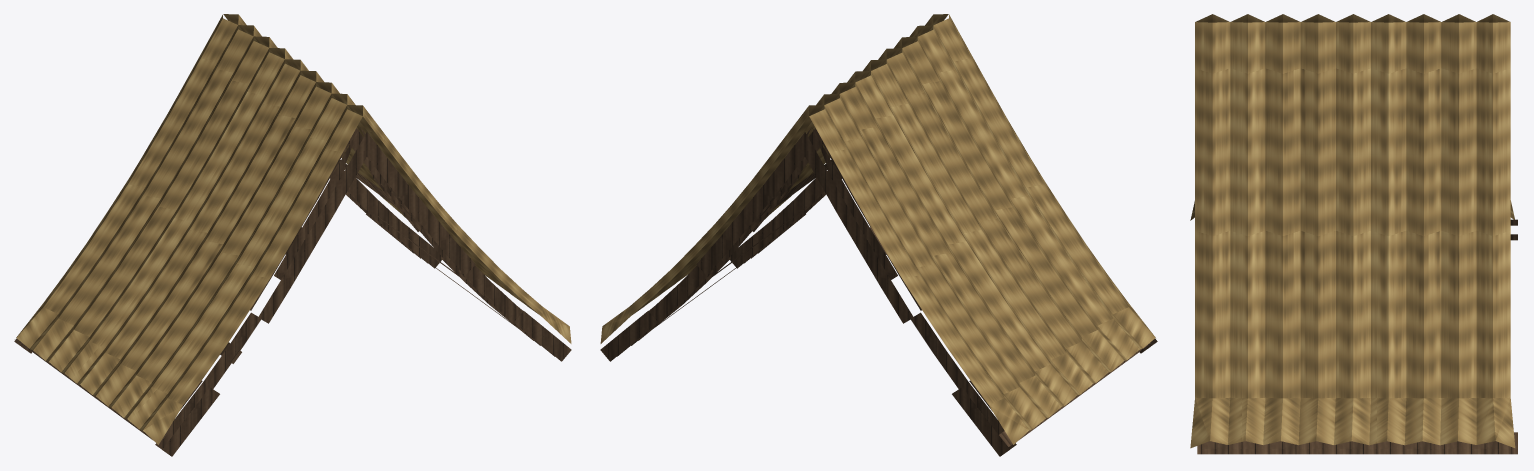
The model's file is Roof_Thatch_6x4_LOD1.gltf.
3 views of the same model, side by side, from view 1: azimuth 30°, elevation 25°; view 2: azimuth 150°, elevation 25°; view 3: azimuth 270°, elevation 25° (orthographic). The views are drawn at different scales.
Visible parts, largest first — view 1: Roof_Thatch_6x4_LOD1; view 2: Roof_Thatch_6x4_LOD1; view 3: Roof_Thatch_6x4_LOD1.
Boxes of the visible parts, <box> form: Roof_Thatch_6x4_LOD1: <box>14,14,571,456</box>; Roof_Thatch_6x4_LOD1: <box>600,14,1157,456</box>; Roof_Thatch_6x4_LOD1: <box>1190,14,1517,454</box>.
Bounding box in the file's own units: 8.25 × 5.42 × 4.95.
Materials: 2 (2 with a texture image).
